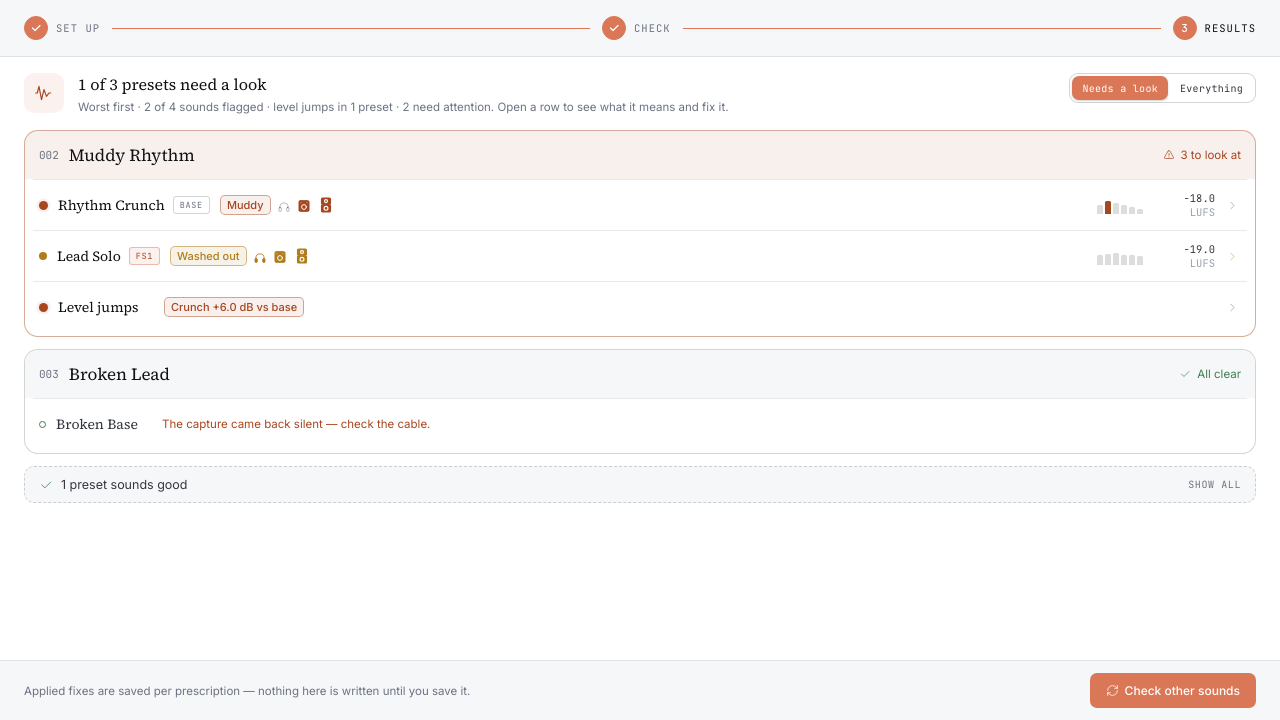
Test: DoctorResults — summary + cards › expands a problem row to show its explanation, detail, and fix; collapses on a second click
Expected: the text "Low-mids are piling up and swallowing your note definition." is not shown
Click the text "Rhythm Crunch" at (111, 205), box top-left (58, 195), bottom-right (165, 215)
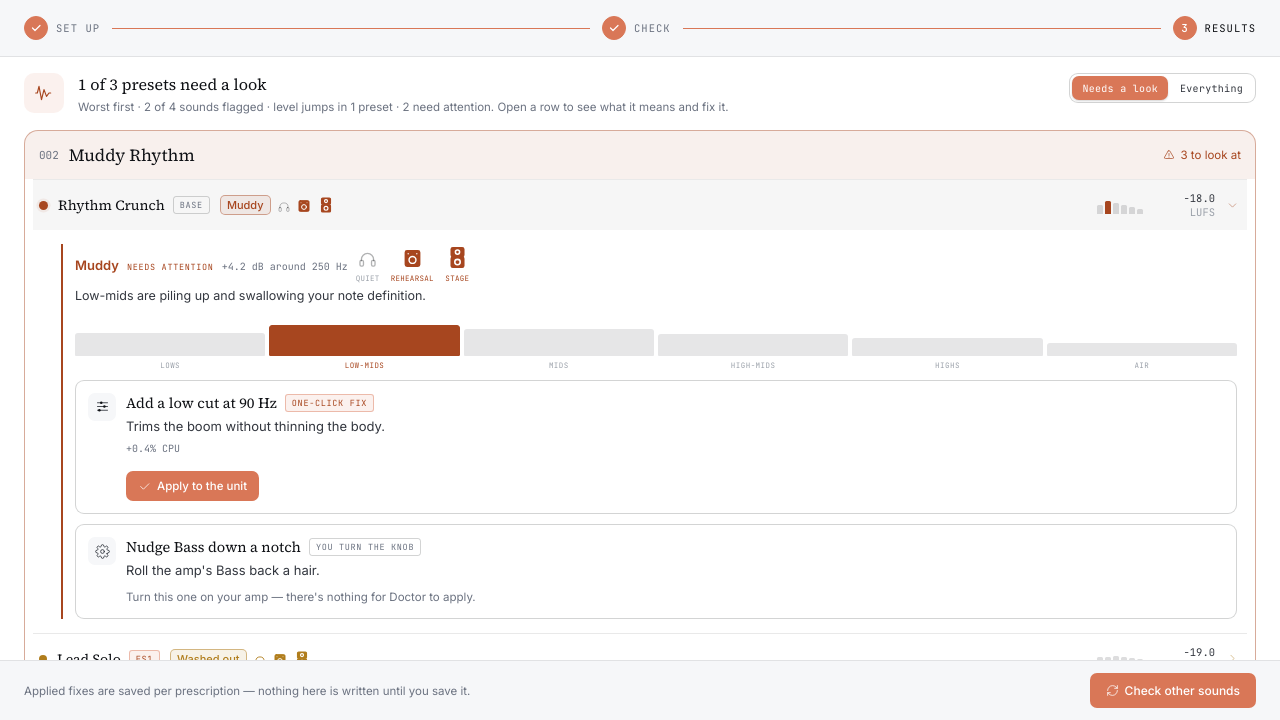
Expected: the text "Low-mids are piling up and swallowing your note definition." is shown, top-left (75, 288), bottom-right (426, 303)
Expected: the text "+4.2 dB around 250 Hz" is shown, top-left (222, 260), bottom-right (348, 273)
Expected: the text "Add a low cut at 90 Hz" is shown, top-left (126, 392), bottom-right (277, 412)
Click the text "Rhythm Crunch" at (111, 205), box top-left (58, 195), bottom-right (165, 215)
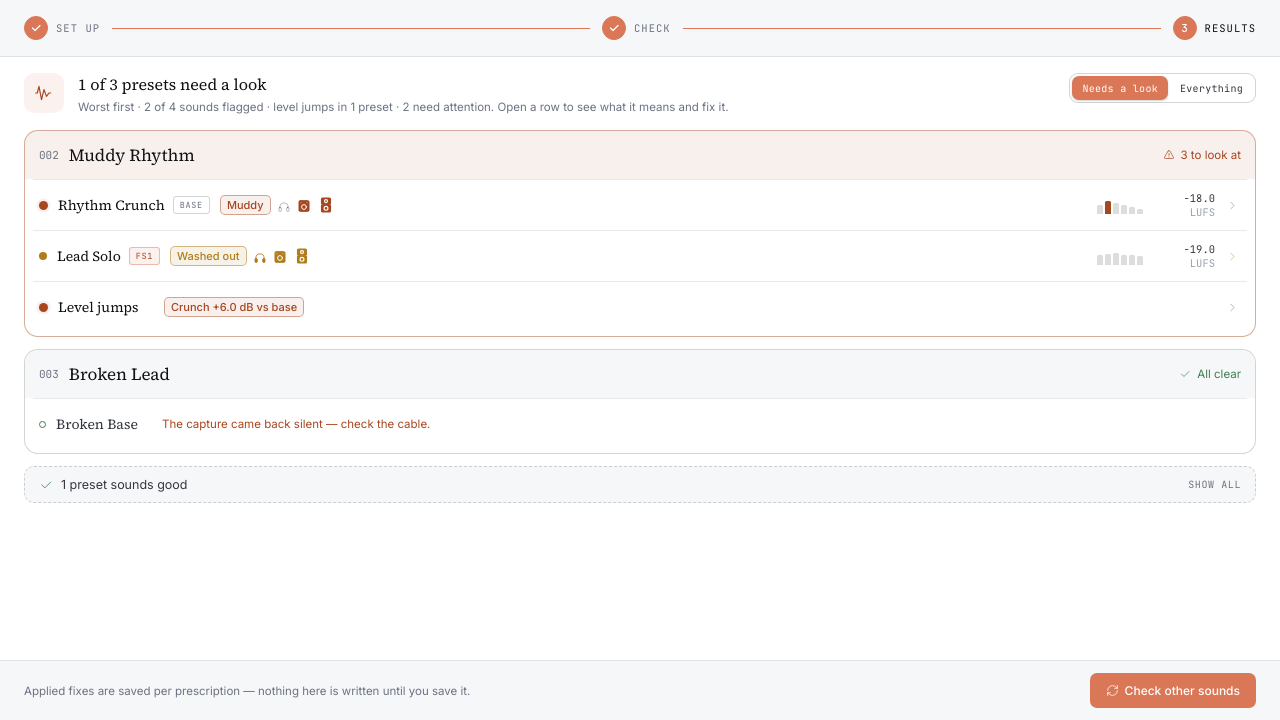
Expected: the text "Low-mids are piling up and swallowing your note definition." is gone
